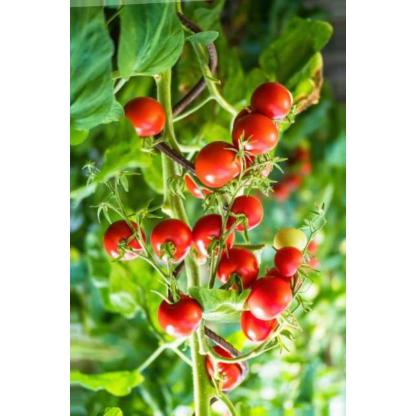tomato: (152, 284, 204, 340), (194, 136, 242, 192), (119, 93, 169, 146), (245, 273, 299, 321), (100, 215, 150, 265), (149, 214, 197, 264), (230, 110, 286, 152), (247, 73, 298, 119), (182, 210, 233, 256), (237, 302, 287, 344), (216, 245, 256, 289), (198, 340, 245, 376), (225, 192, 261, 230), (270, 226, 314, 254), (272, 244, 304, 278)
